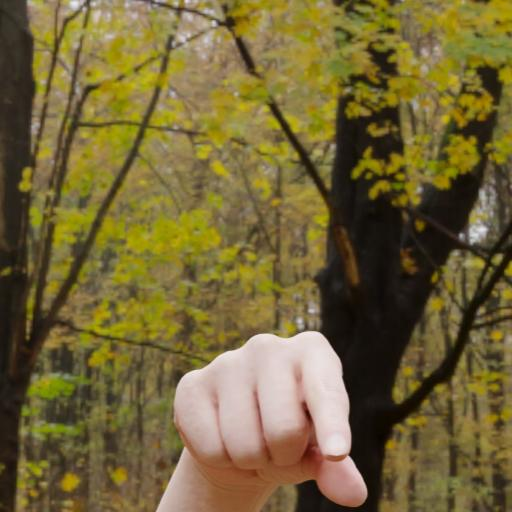Q: (161, 324, 379, 512)
